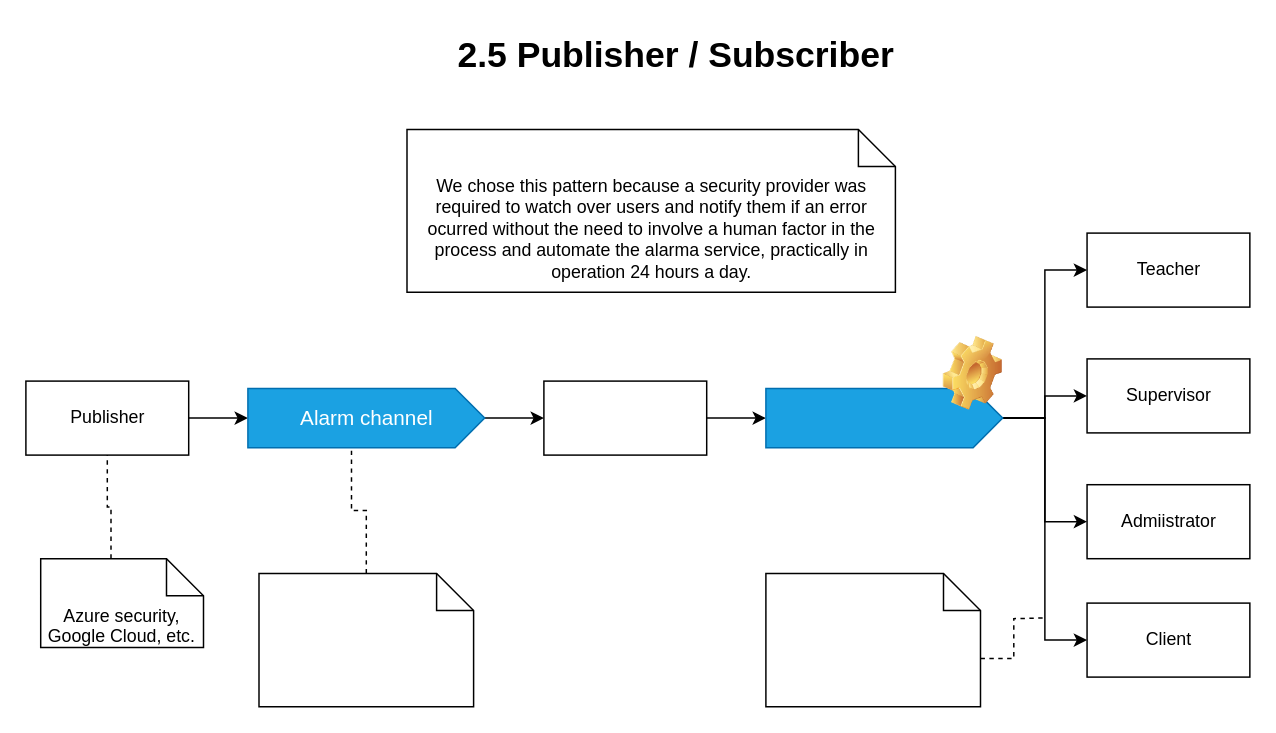
This 1276x733 diagram has some shape labels left out. Here are the shapes that lost their labels. From the top down, the box of each, then its label:
(542, 380, 707, 455): Alarm
(764, 387, 1003, 448): Triggering alarm.
(258, 572, 474, 707): Step through which you will interact with the platform directly.
(764, 572, 980, 707): All users are notified immediately regardless of their time zome or location.
